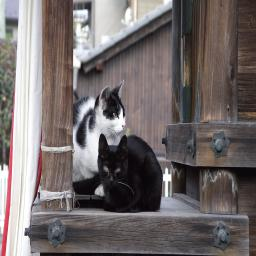catnose: (108, 178, 115, 185), (120, 123, 126, 131)
